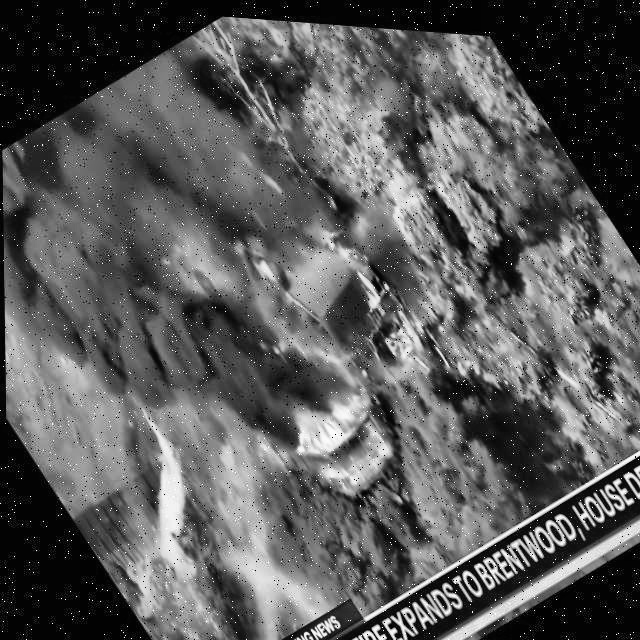Smoke: (0, 16, 409, 536)
